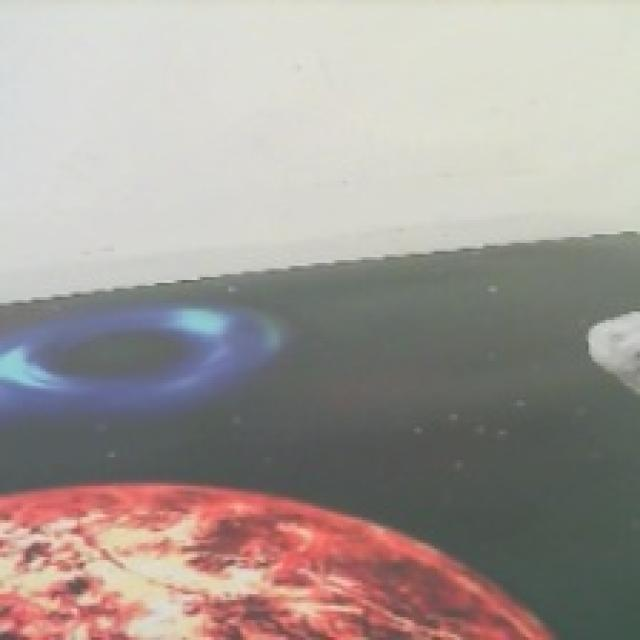Asteroid: (586, 306, 640, 394)
Black Hole: (0, 300, 287, 413)
Sun: (0, 483, 567, 640)
